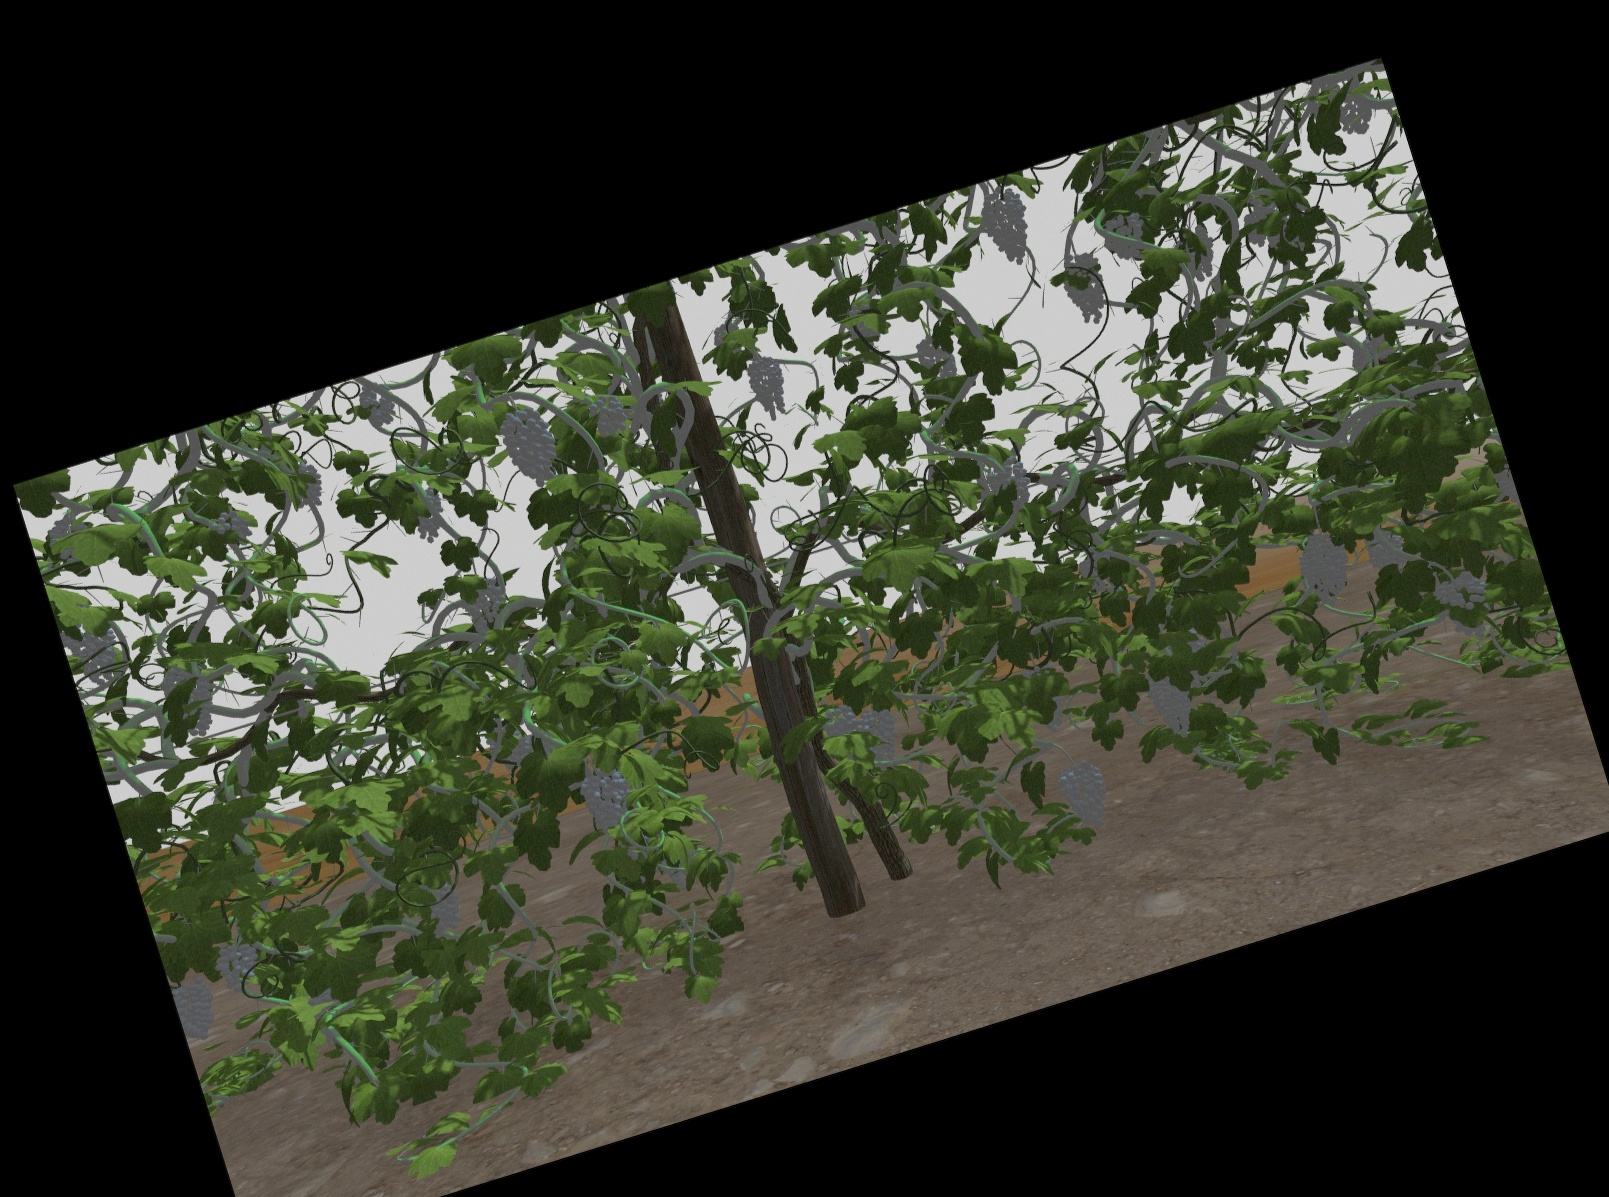grape: (505, 401, 553, 487), (1299, 531, 1349, 601), (986, 191, 1031, 267), (1063, 254, 1107, 324), (1441, 575, 1488, 637), (582, 766, 629, 829), (1062, 762, 1106, 826), (1151, 669, 1190, 741), (75, 627, 124, 683), (420, 881, 465, 935), (182, 971, 216, 1042), (750, 356, 787, 419), (987, 455, 1030, 507), (217, 940, 258, 995), (463, 581, 507, 630), (1334, 89, 1376, 135), (1102, 212, 1144, 259), (859, 708, 898, 757), (915, 333, 954, 380), (360, 382, 393, 427), (1365, 529, 1403, 570), (588, 394, 623, 434), (211, 509, 250, 542), (822, 704, 857, 739)
